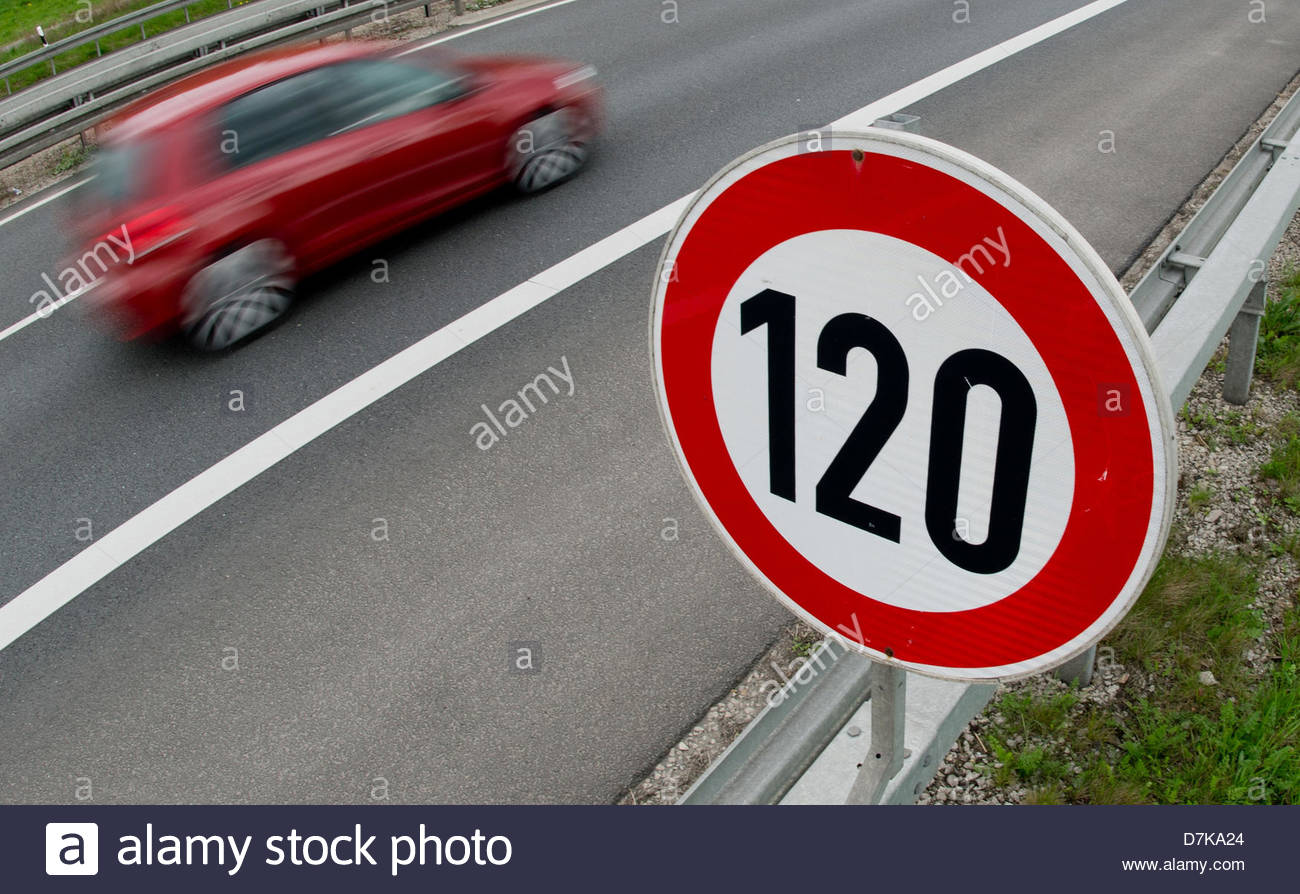Speed_limit_120km: (643, 120, 1179, 675)
